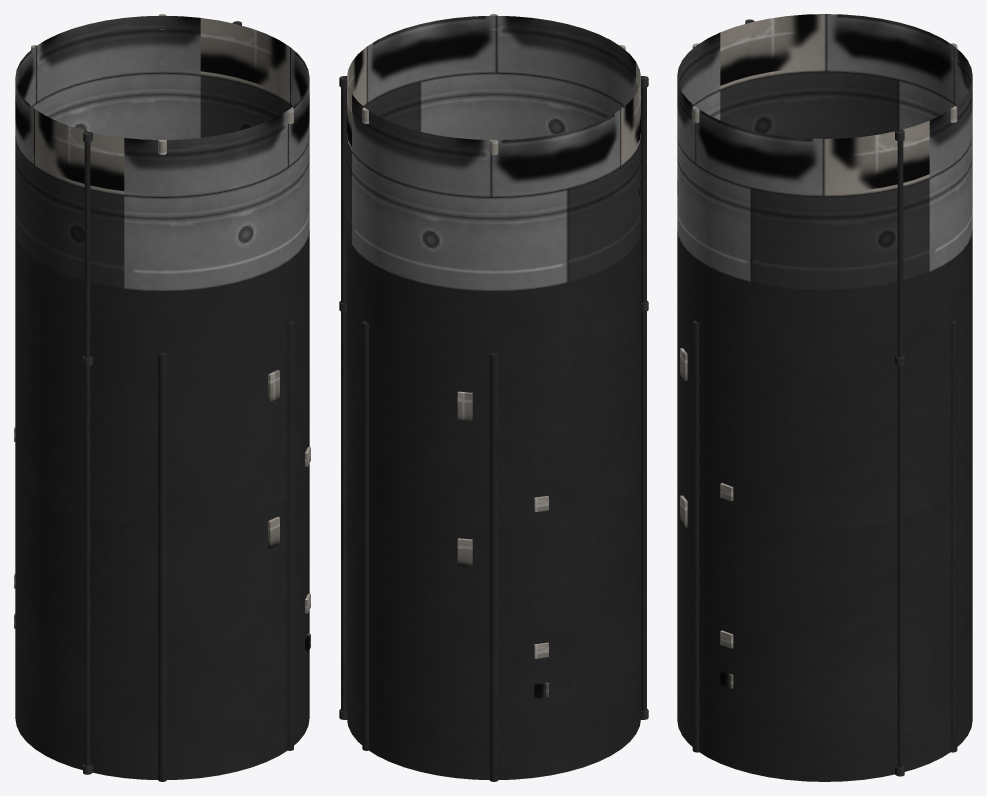
The model's file is rotanev_lv_fuel_tank_s4_3.obj.
3 renders of one model, left to right at view 1: azimuth 30°, elevation 25°; view 2: azimuth 150°, elevation 25°; view 3: azimuth 270°, elevation 25°, orthographic.
Parts seen in each view (by area): view 1: 1; view 2: 1; view 3: 1.
Part boxes in pixels (x1,y1,x2,y2): 1: (14,14,310,781); 1: (339,14,648,781); 1: (677,14,972,781).
Bounding box in the file's own units: 5 × 12 × 5.
